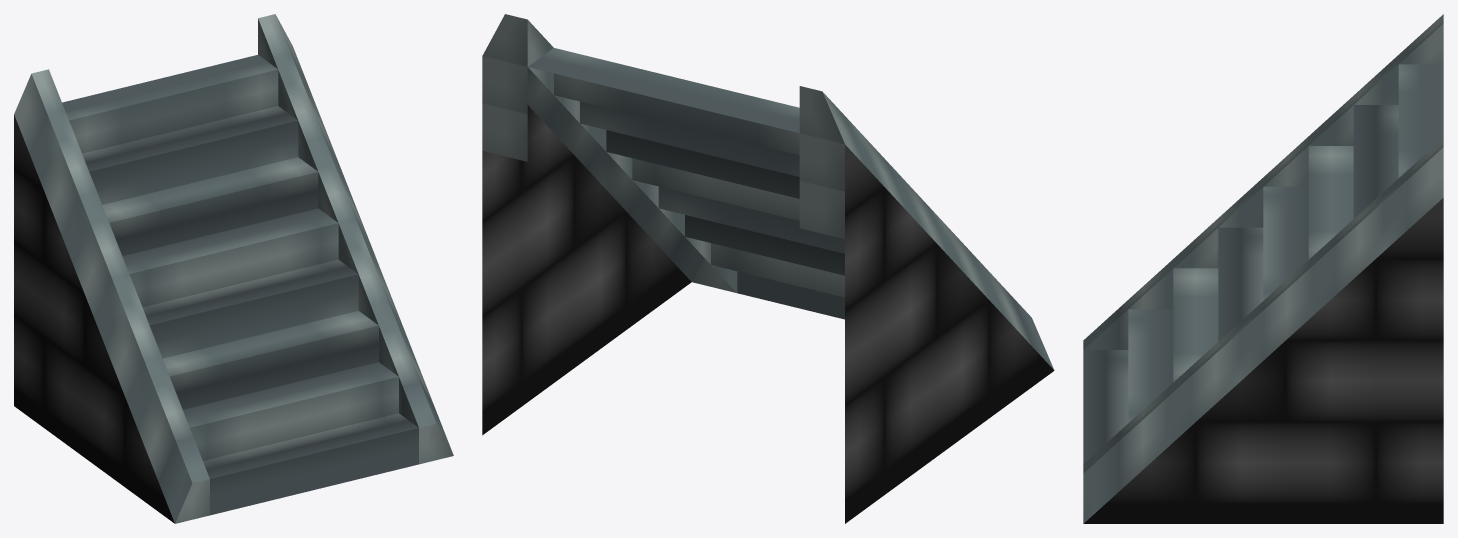
File: stair.obj
The picture shows the model from 3 angles, left to right: view 1: azimuth 30°, elevation 25°; view 2: azimuth 150°, elevation 25°; view 3: azimuth 270°, elevation 25°; orthographic projection. The views are drawn at different scales.
Parts seen in each view (by area): view 1: Default; view 2: Default; view 3: Default.
Part boxes in pixels (left/top/right/bottom): Default: left=14, top=14, right=453, bottom=523; Default: left=482, top=14, right=1054, bottom=523; Default: left=1083, top=14, right=1443, bottom=523.
Size of the model in its own units: 1 by 1.12 by 1.
